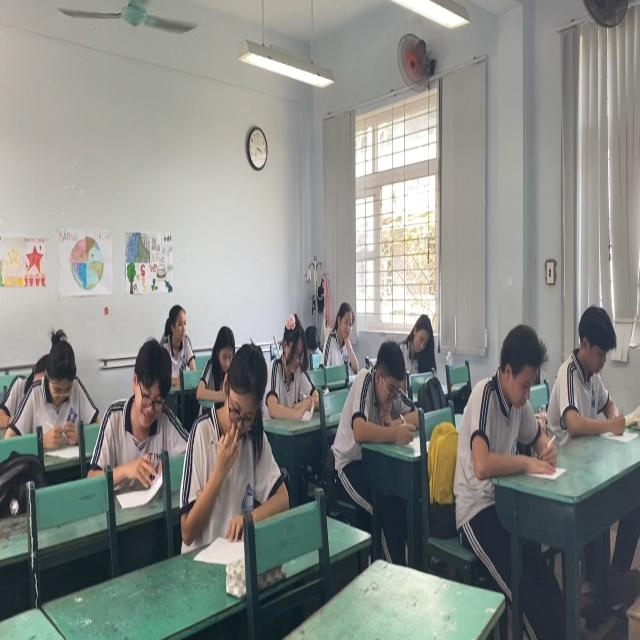not_cheating: (203, 344, 274, 533), (460, 319, 552, 461), (93, 337, 185, 460), (16, 323, 97, 446), (556, 295, 624, 430), (265, 305, 321, 416), (340, 343, 412, 422), (156, 294, 199, 374), (327, 292, 360, 371), (194, 329, 240, 381), (405, 309, 436, 374)
